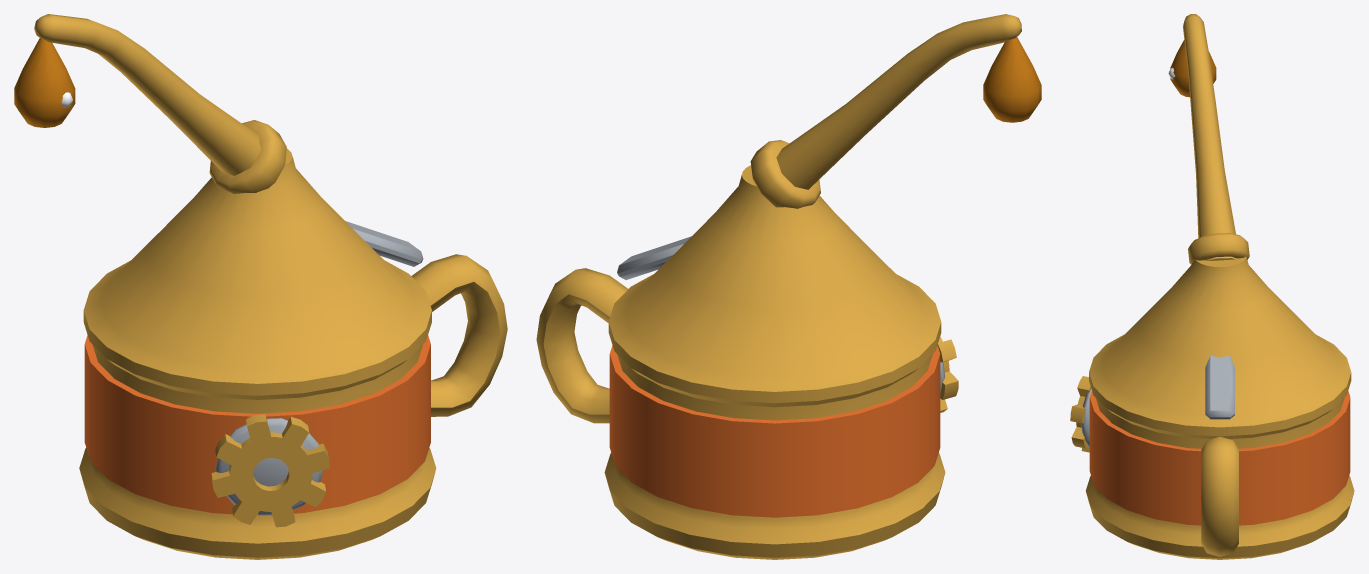
Rendered from item_weapon_oil.glb.
3 renders of one model, left to right at view 1: azimuth 30°, elevation 25°; view 2: azimuth 150°, elevation 25°; view 3: azimuth 270°, elevation 25°, orthographic. The views are drawn at different scales.
Visible parts, largest first — view 1: WeaponOil; view 2: WeaponOil; view 3: WeaponOil.
Part boxes in pixels (x1,y1,x2,y2): WeaponOil: [14, 14, 507, 559]; WeaponOil: [536, 14, 1041, 559]; WeaponOil: [1070, 14, 1354, 559].
Size of the model in its own units: 0.271 by 0.28 by 0.1761.
